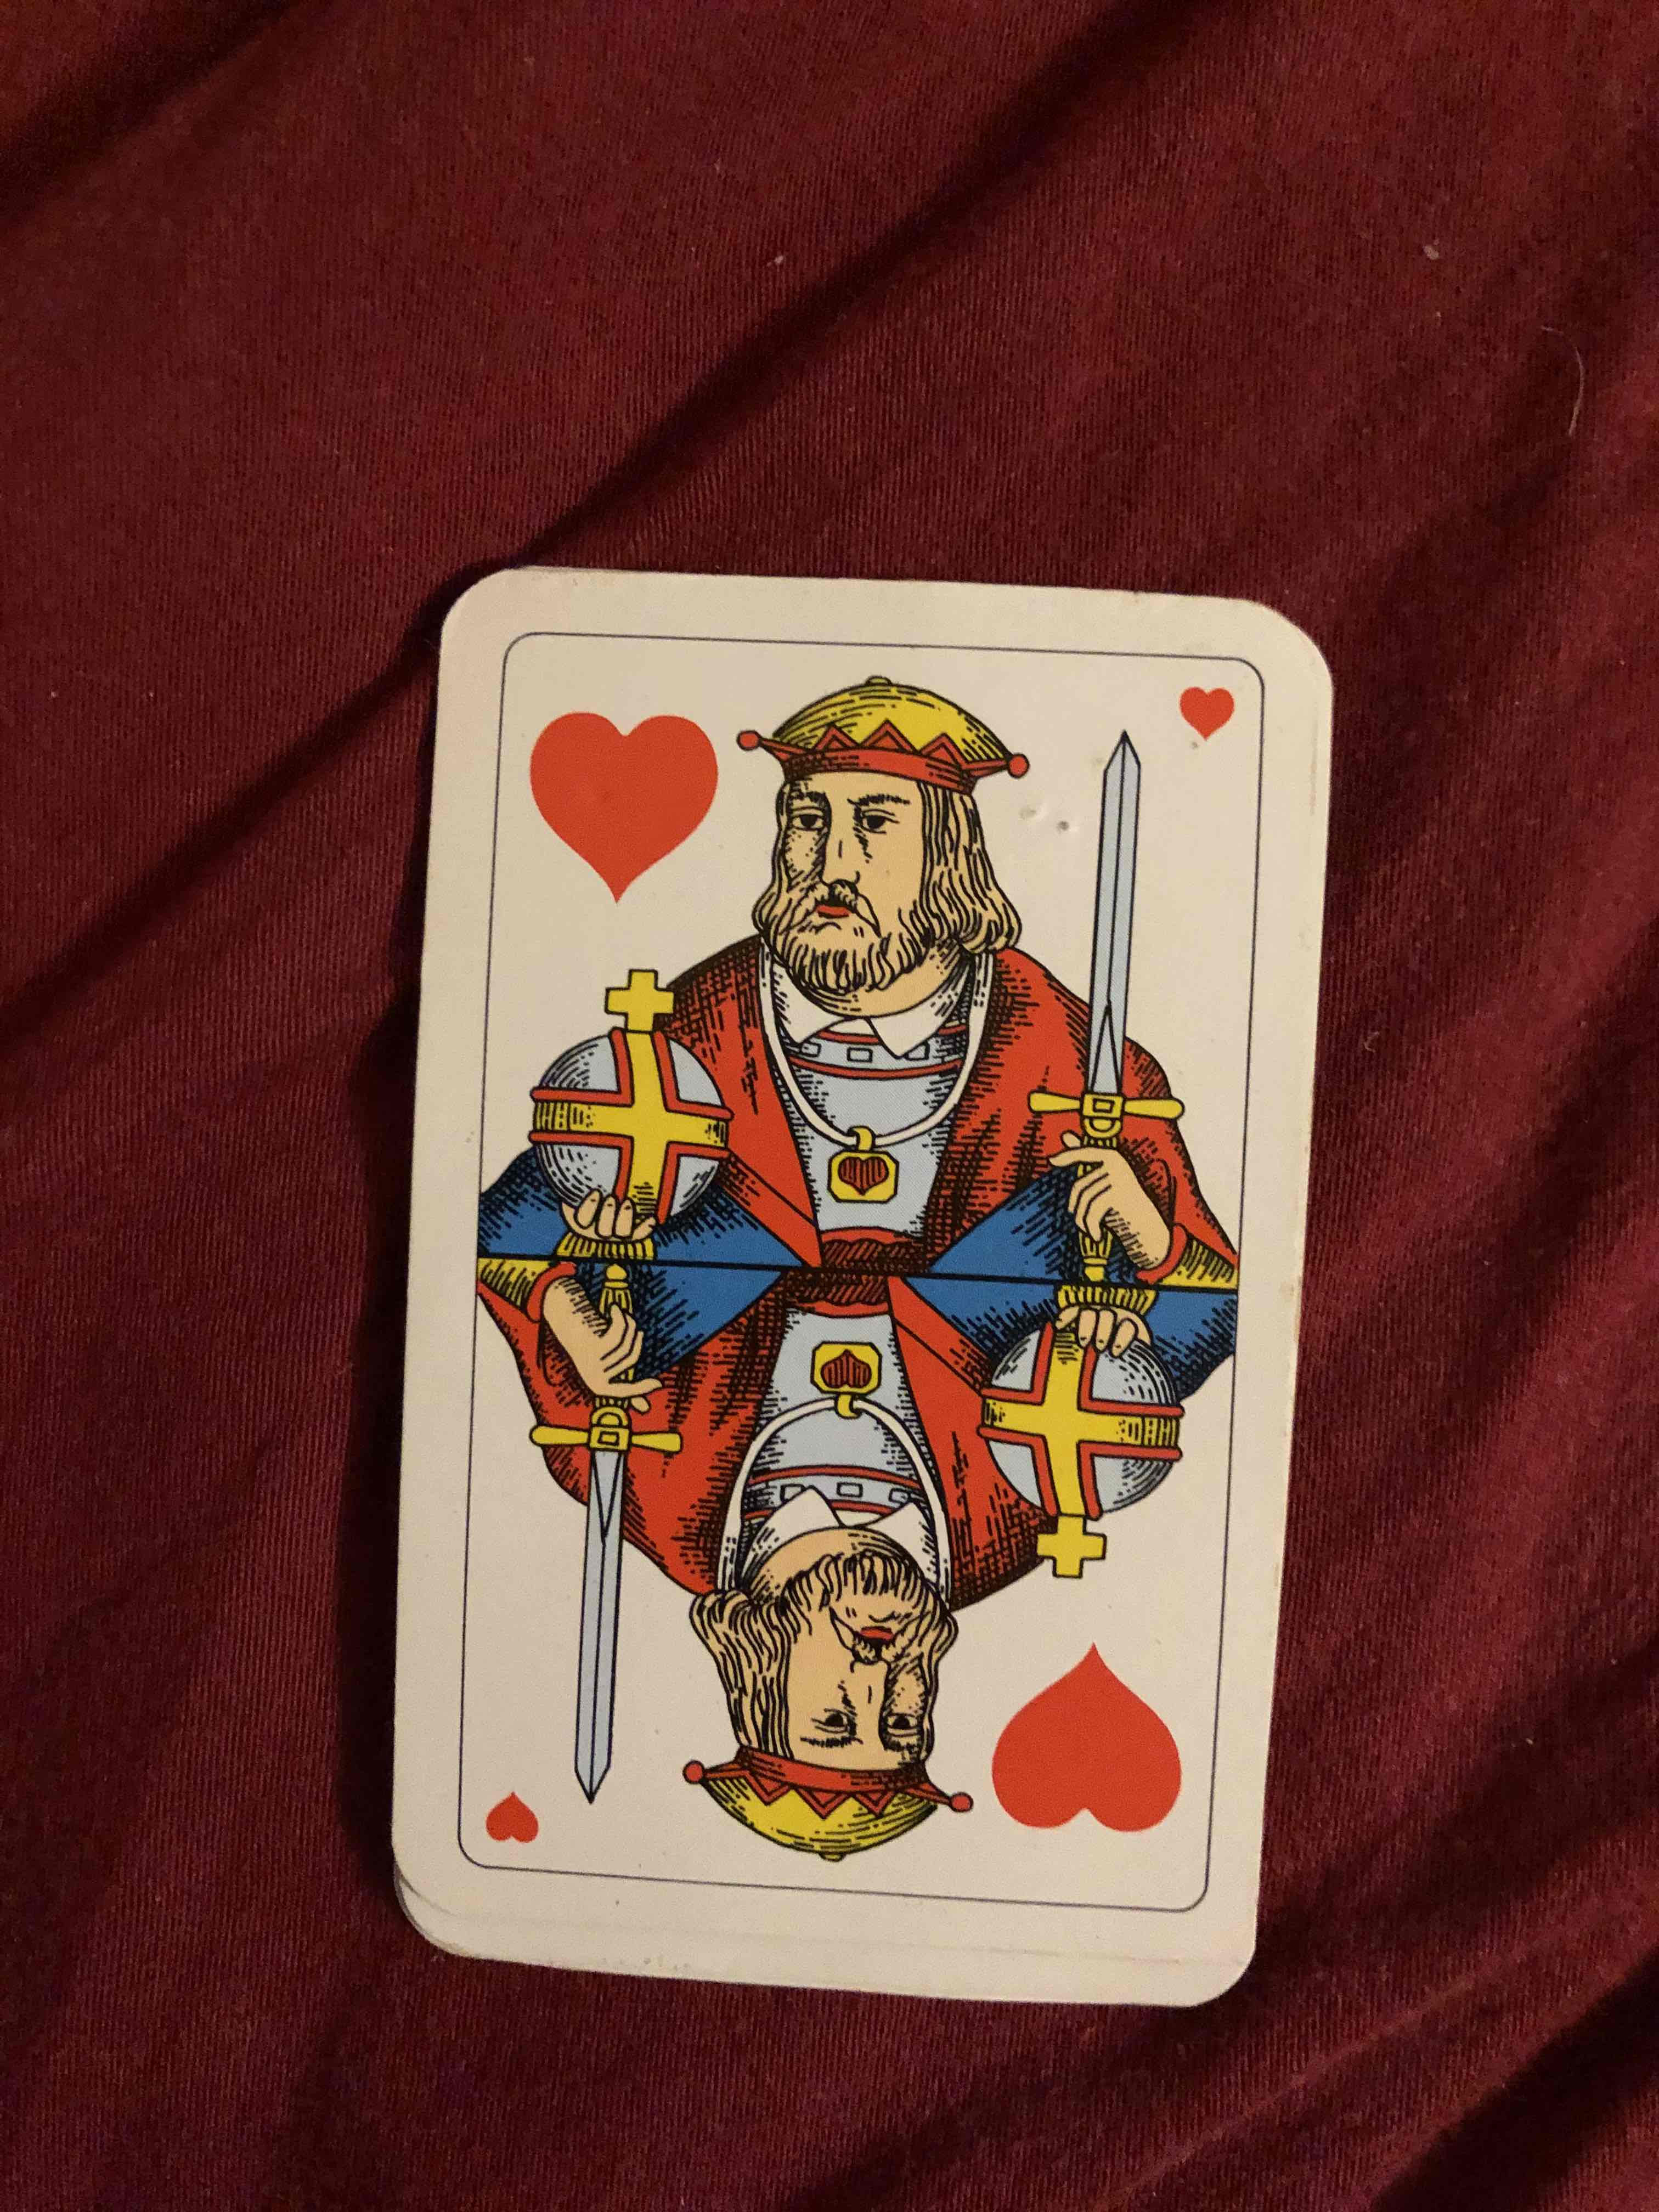heartsKing: (441, 570, 1256, 1954)
